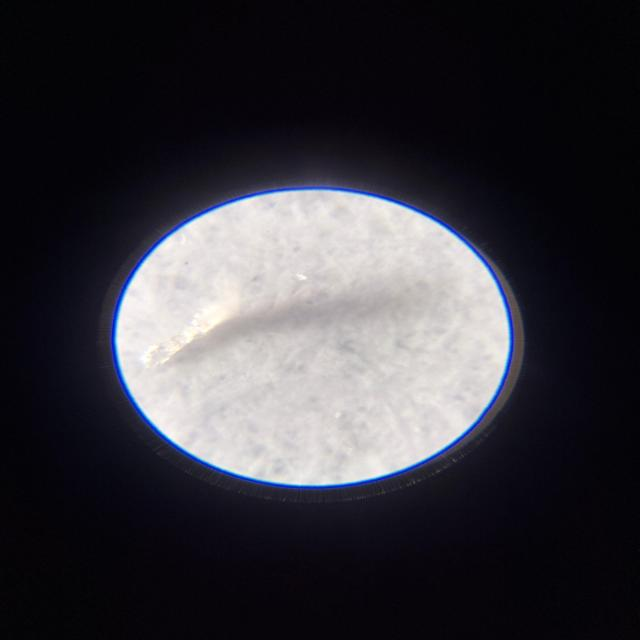microplastic_type_1: (141, 271, 360, 370)
